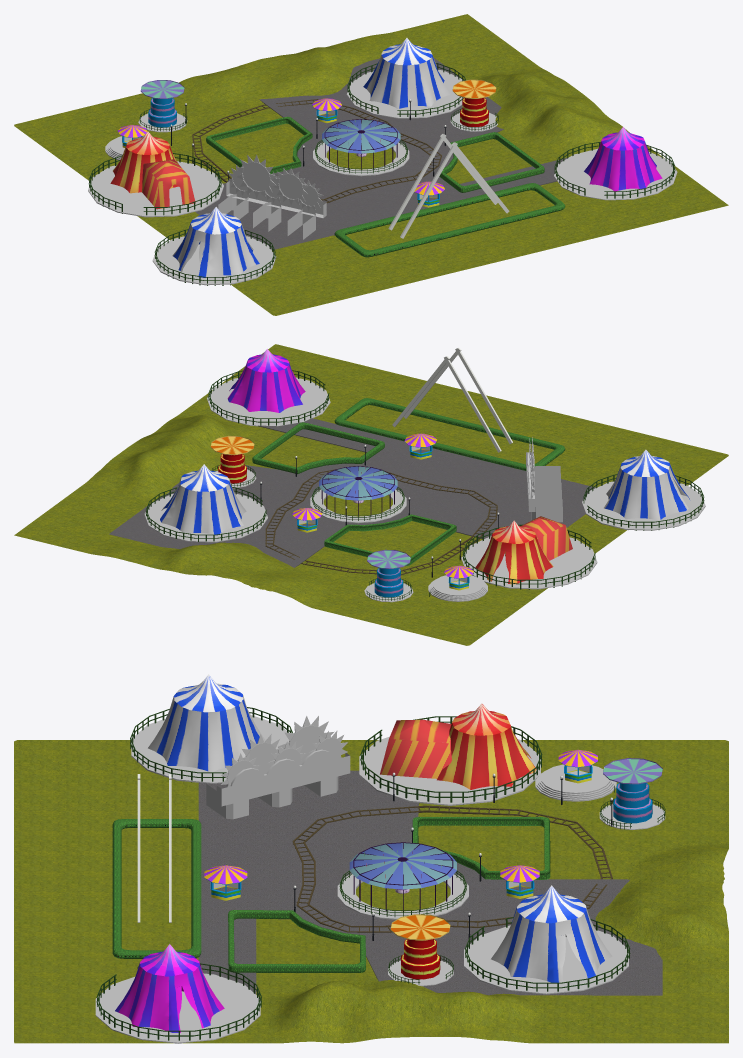
The model's file is Park04Static.FBX.
3 views of the same model, one above another, from view 1: azimuth 30°, elevation 25°; view 2: azimuth 150°, elevation 25°; view 3: azimuth 270°, elevation 25° (orthographic). The views are drawn at different scales.
Visible parts, largest first — view 1: Cylinder007; view 2: Cylinder007; view 3: Cylinder007.
Part boxes in pixels (box(x1,y1,x2,y2)): Cylinder007: box(14, 14, 728, 315); Cylinder007: box(14, 344, 728, 645); Cylinder007: box(14, 674, 728, 1043).
Size of the model in its own units: 9331 by 1596 by 8531.
